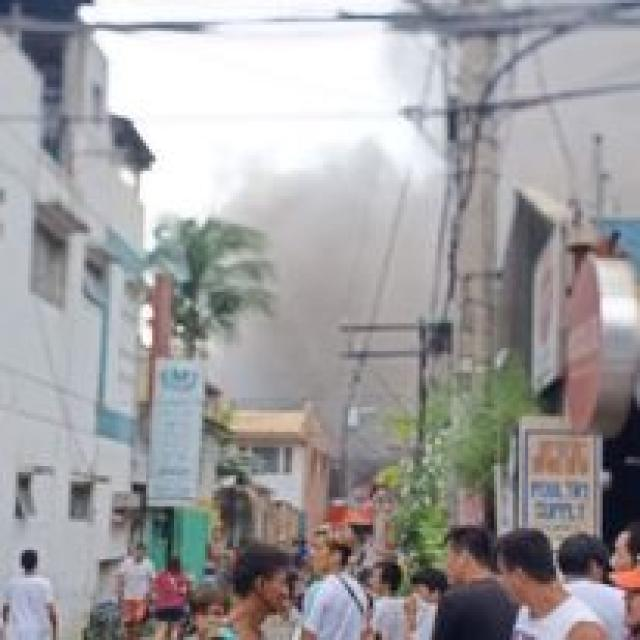Smoke: (272, 160, 407, 426)
